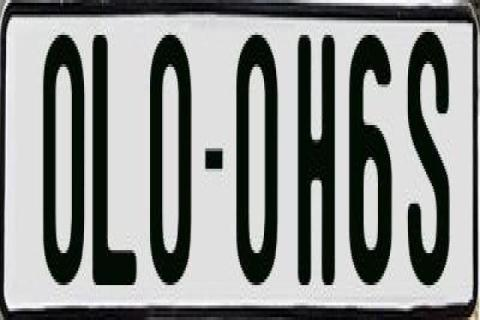0: (44, 32, 90, 296), (236, 32, 278, 296), (148, 27, 190, 286), (350, 26, 393, 276)
H: (296, 35, 340, 299)
L: (92, 35, 140, 285)
S: (406, 24, 454, 282)
